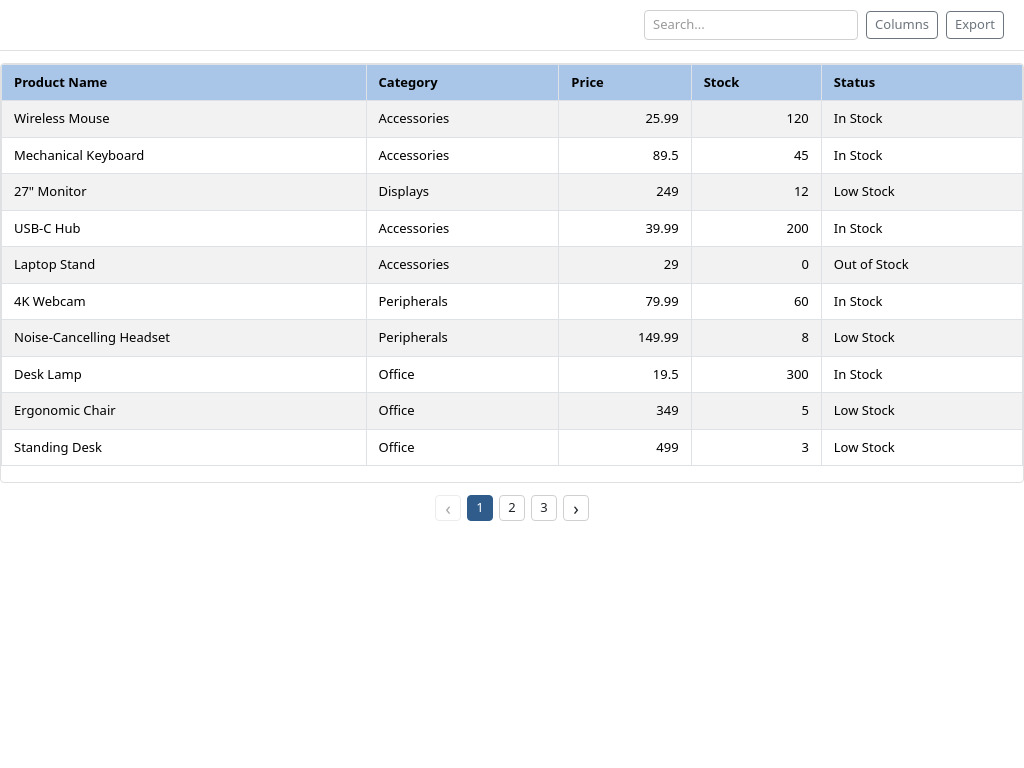
DataTableComponent › locked first/last columns (lock-first-and-last-columns-28-09-2026-01_35_PM.md) › disables hide, move and pin controls for locked columns in the Columns panel
What coordinates should you click on to do the following:
click the button "Columns"
I would click on:
 (902, 25)
Its box is [866, 11, 938, 39].
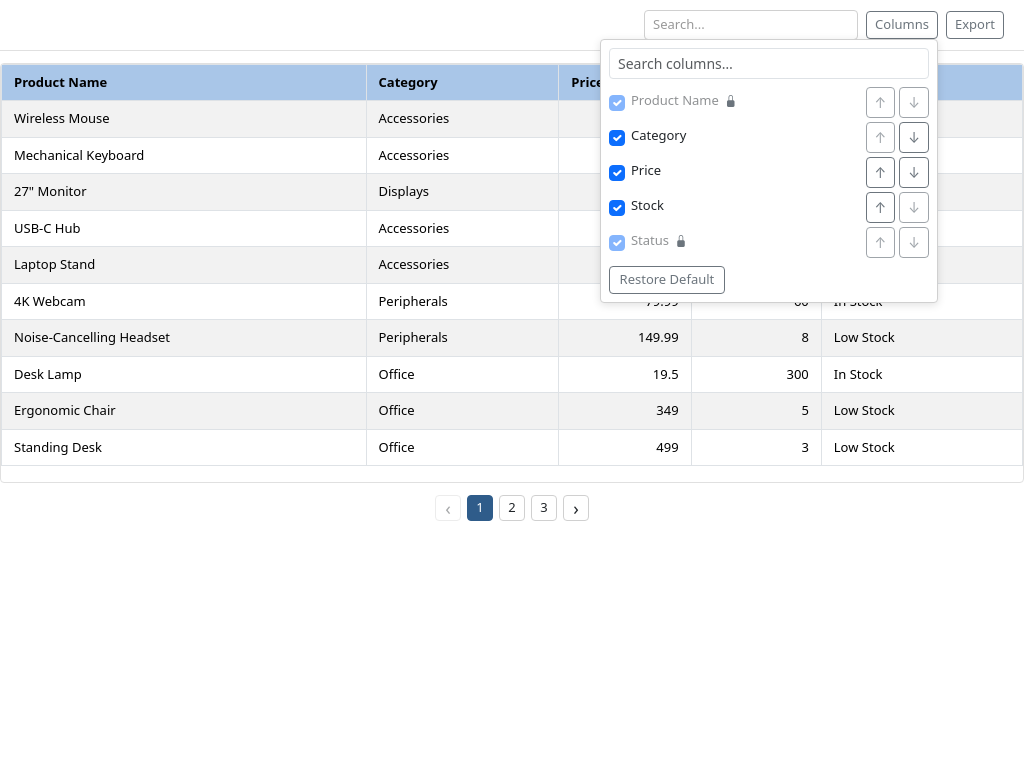
expect the checkbox labelled "Product Name" is disabled: met, box [609, 95, 625, 111]
expect the button named "Move column down" is disabled: met, box [899, 87, 929, 118]
expect the checkbox labelled "Status" is disabled: met, box [609, 235, 625, 251]
